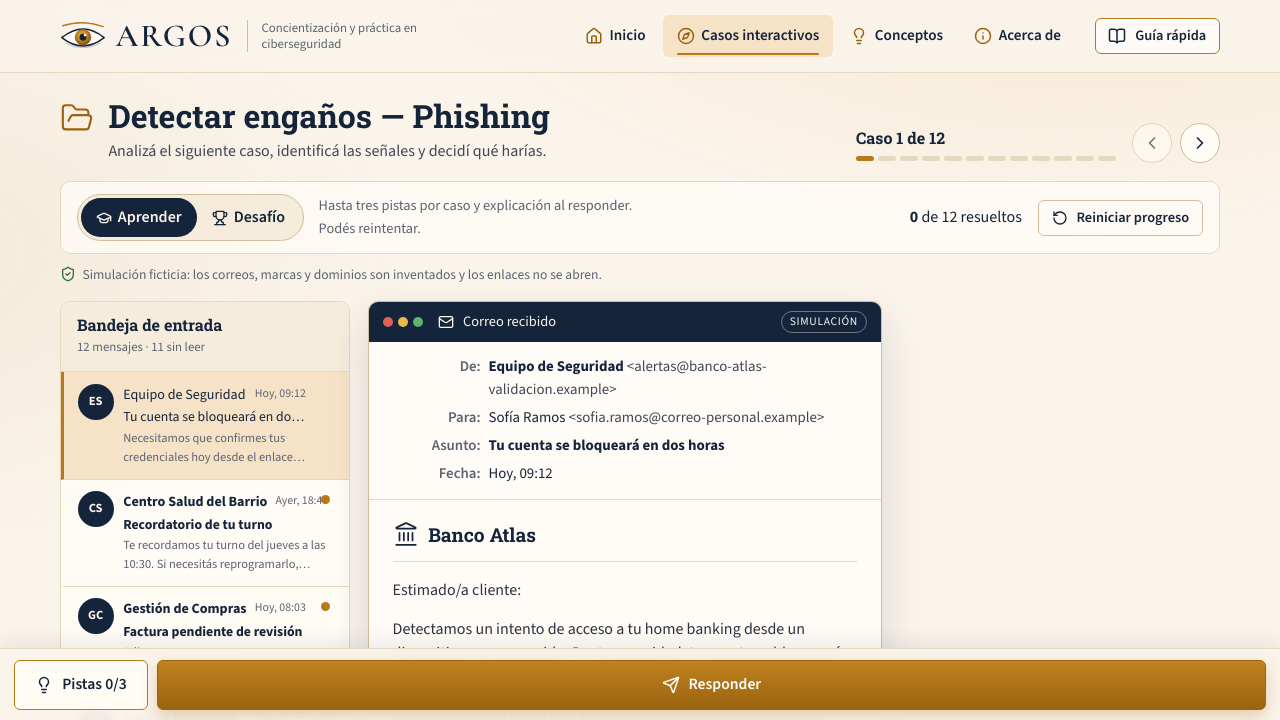
Test: simulador en móvil (panel inferior) › después de responder, la barra ofrece ver la devolución y avanzar
This screenshot has width=1280, height=720.
Expected: the heading "Detectar engaños — Phishing" is shown, [108,97,550,135]
Click the button "Responder". click: (711, 685)
box: [157,660,1266,710]
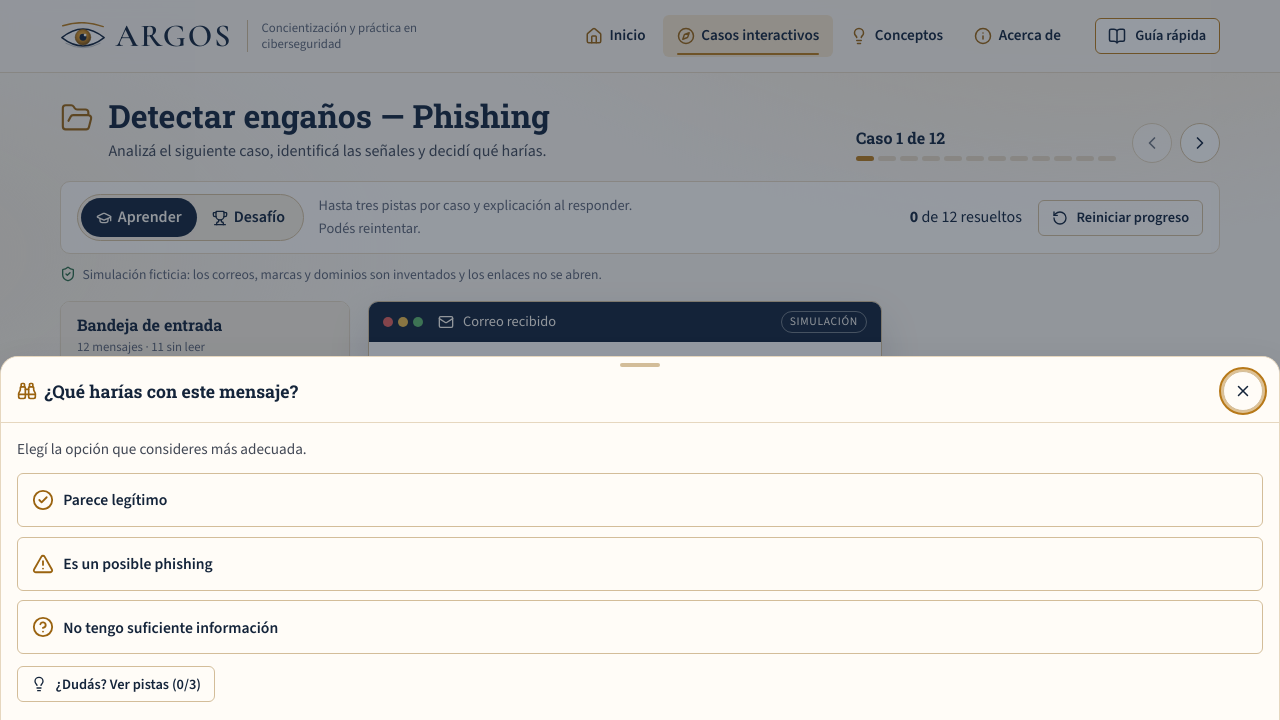
Click the button "Es un posible phishing". click: (138, 564)
box: [17,537,1263,591]
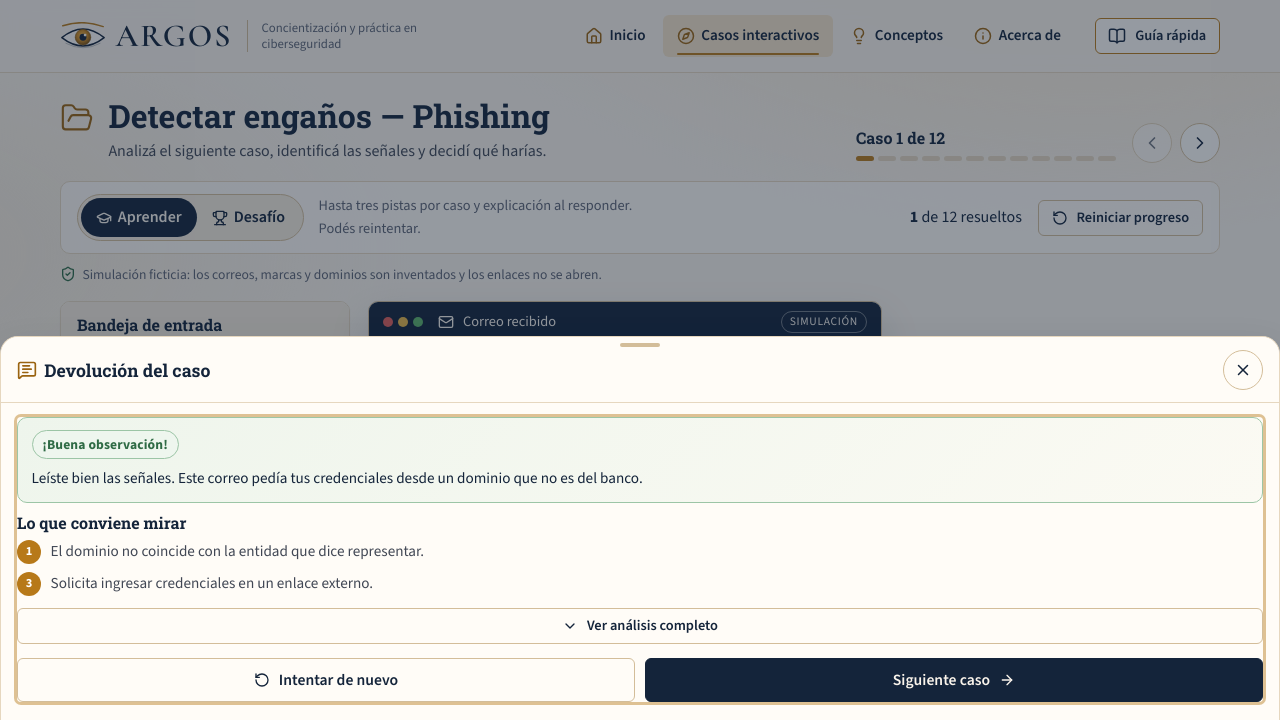
Press Escape
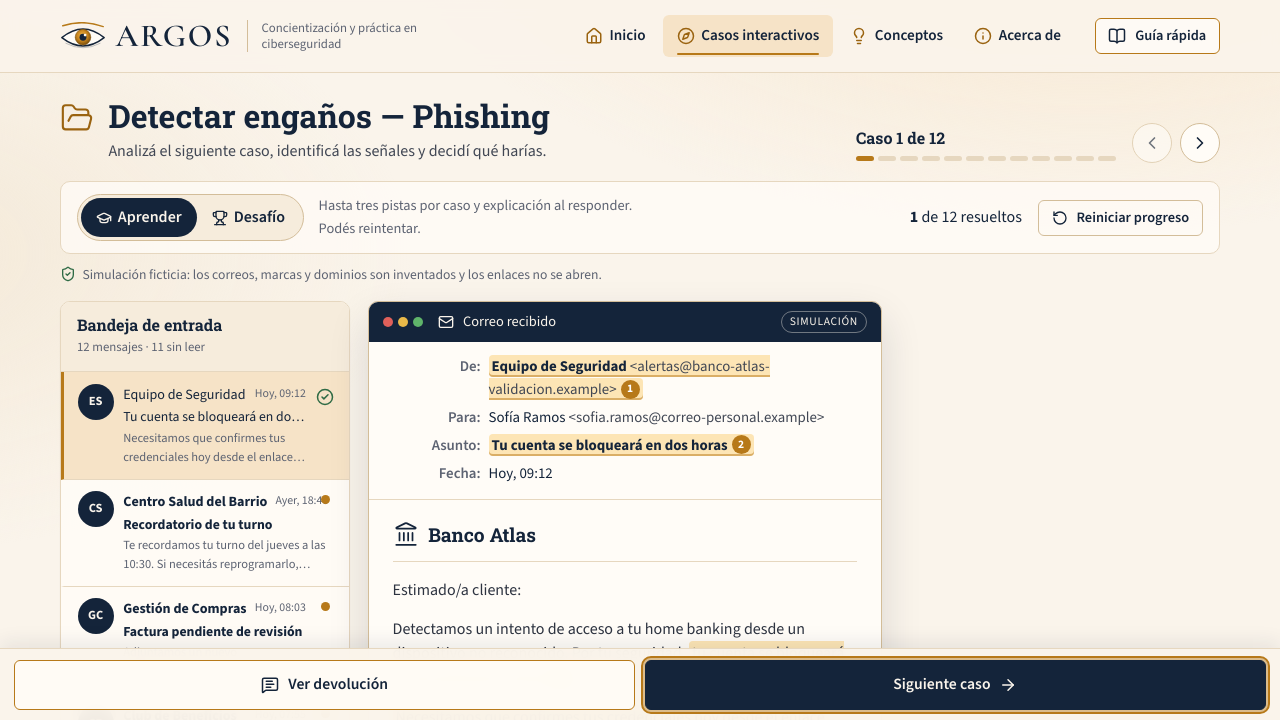
Click the button "Ver devolución". click: (325, 685)
box: [14,660,635,710]
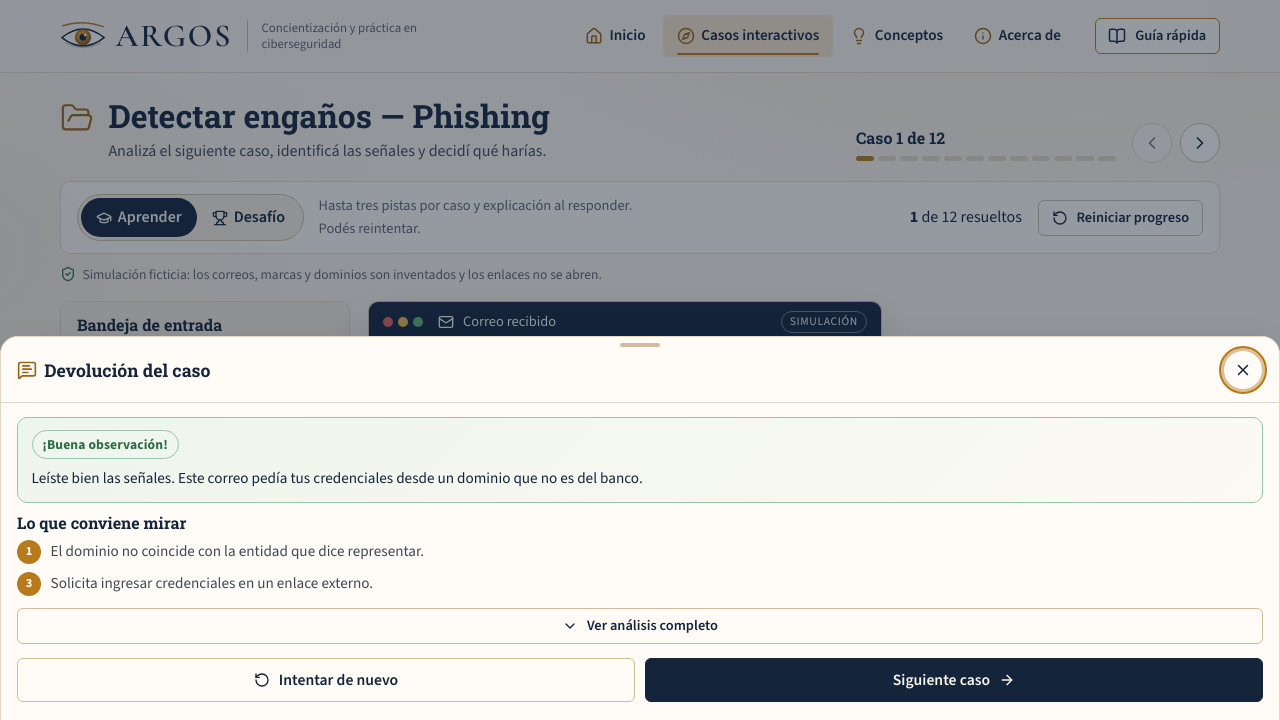
Expected: the text "¡Buena observación!" is shown, [32,430,178,459]
Press Escape
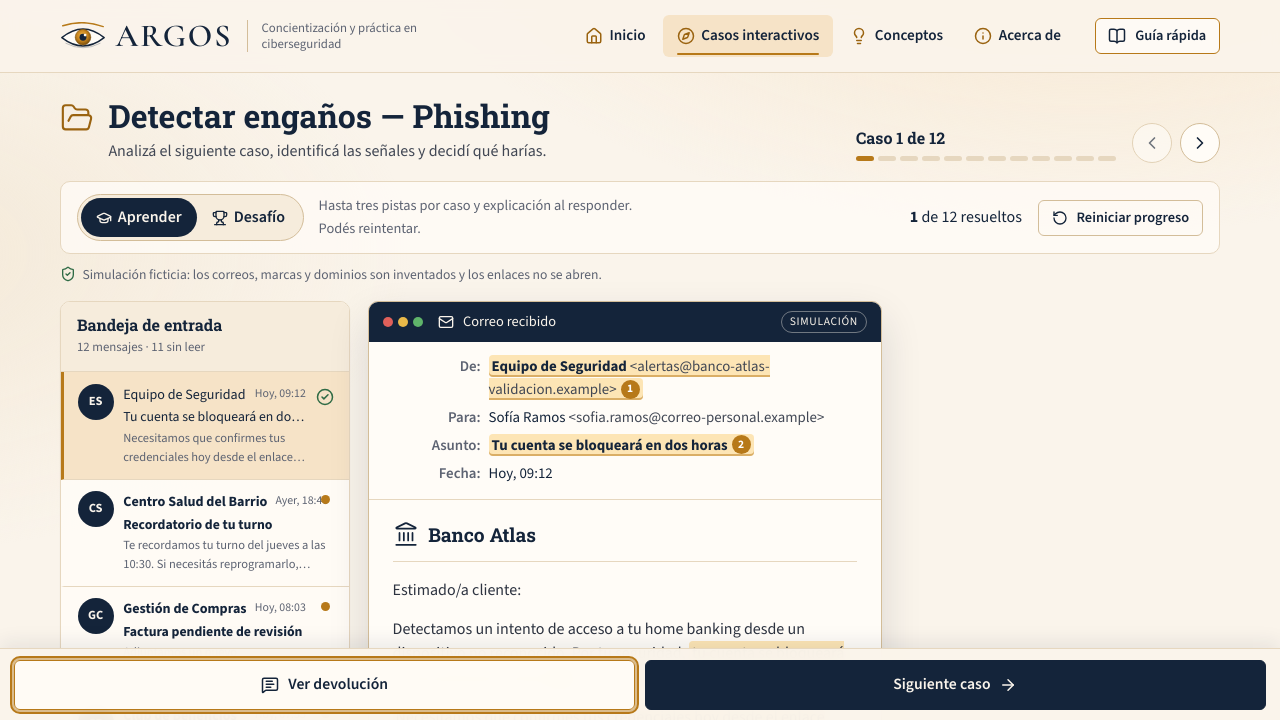
Click the button "Siguiente caso". click: (955, 685)
box: [645,660,1266,710]
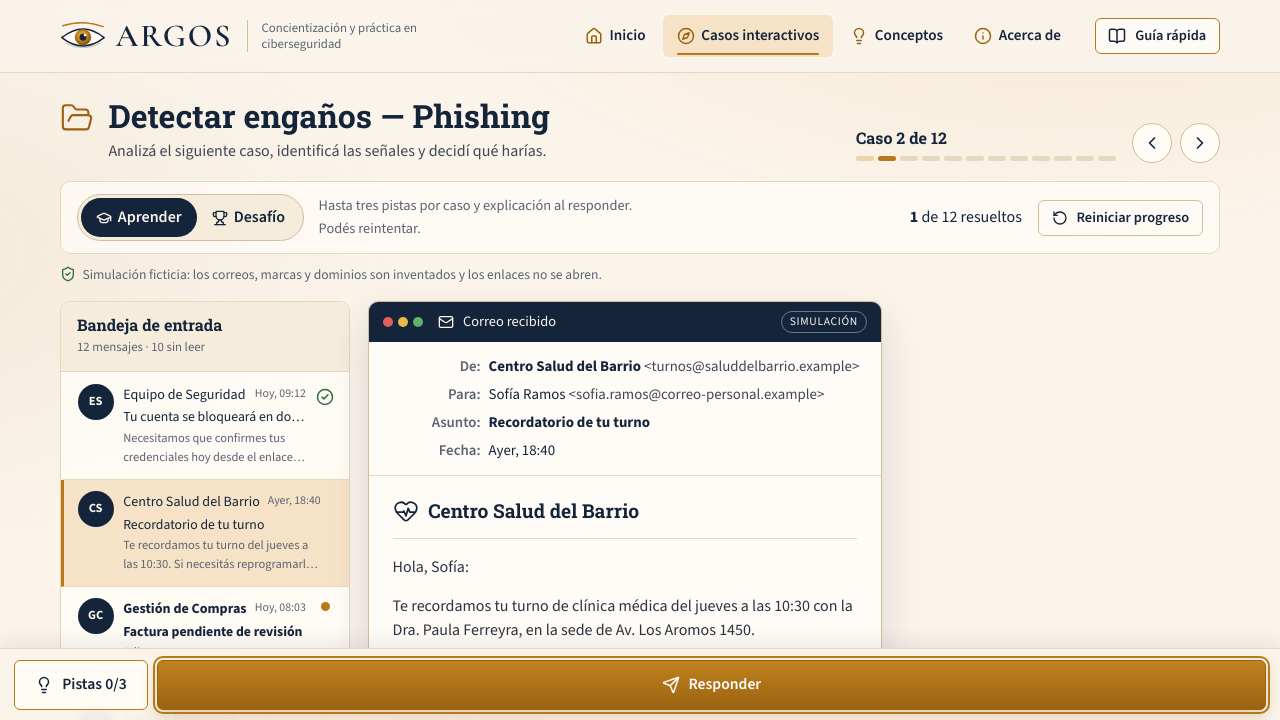
Expected: the text "Caso 2 de 12" is shown, [856,127,947,148]
